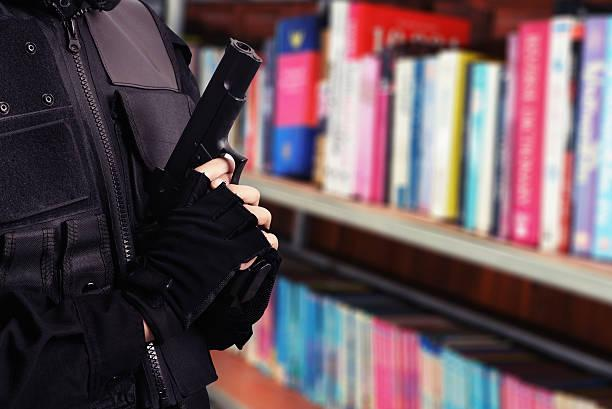weapon: (152, 31, 283, 302)
